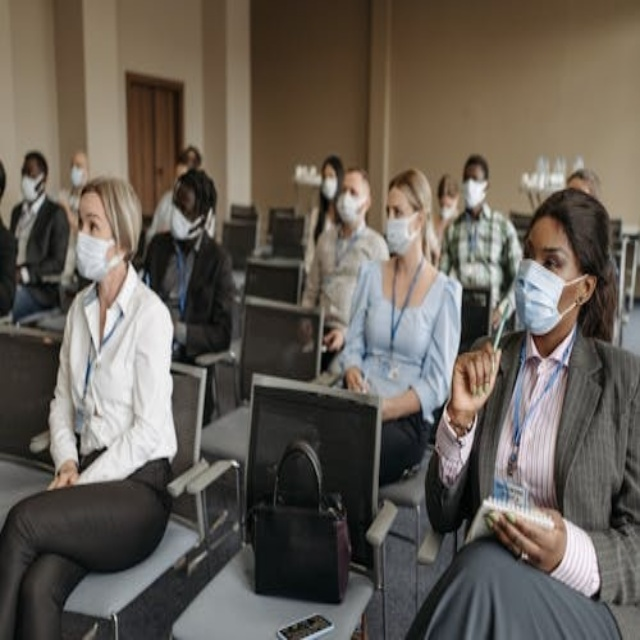Mascara: (516, 257, 588, 335), (73, 230, 132, 280), (381, 207, 430, 257), (168, 205, 205, 240), (20, 163, 46, 203), (462, 172, 490, 207), (339, 194, 374, 220), (436, 194, 457, 222), (65, 163, 87, 188), (319, 172, 338, 194)
Sin_gafas: (517, 230, 576, 268), (76, 207, 113, 236), (381, 195, 416, 220), (334, 180, 364, 197)
Sin_guantes: (489, 502, 565, 575), (449, 333, 506, 414), (337, 360, 364, 395), (321, 320, 344, 356)
